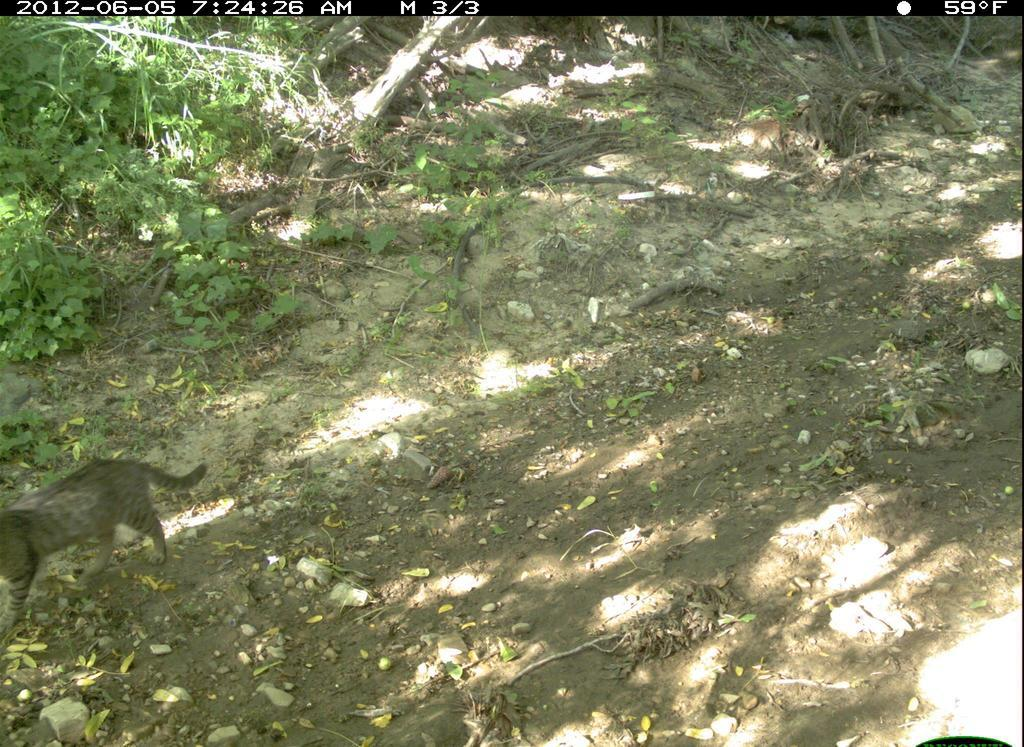cat: (1, 451, 217, 629)
